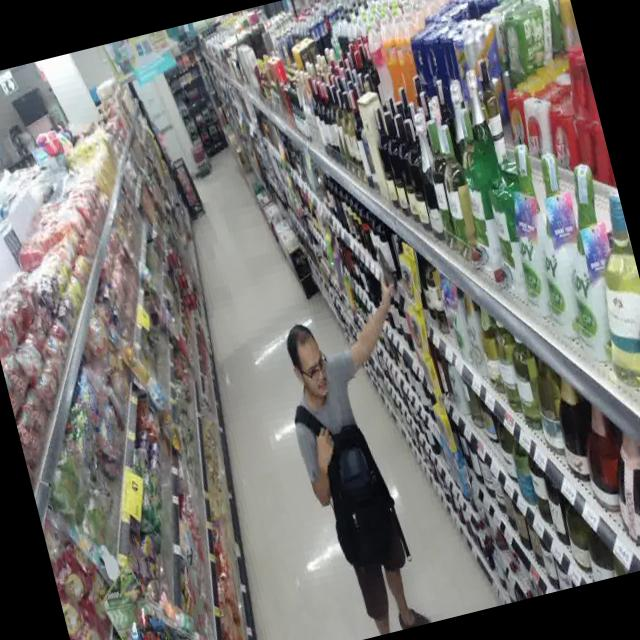pickup: (231, 239, 489, 640)
